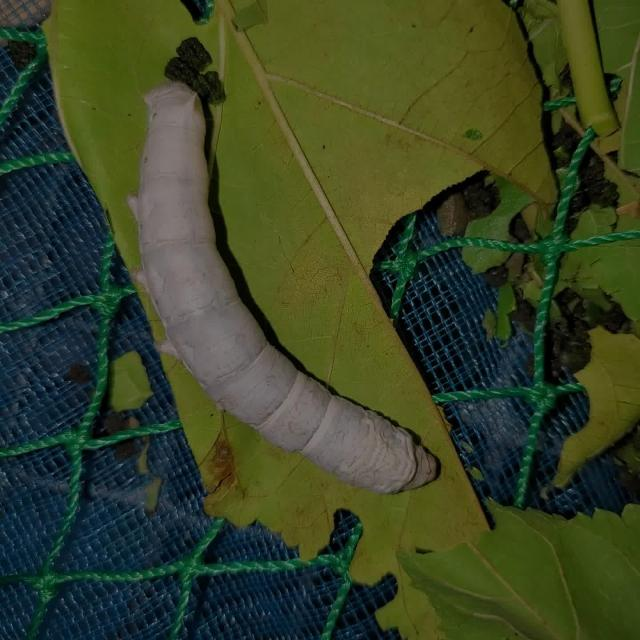Healthy: (111, 51, 463, 522)
